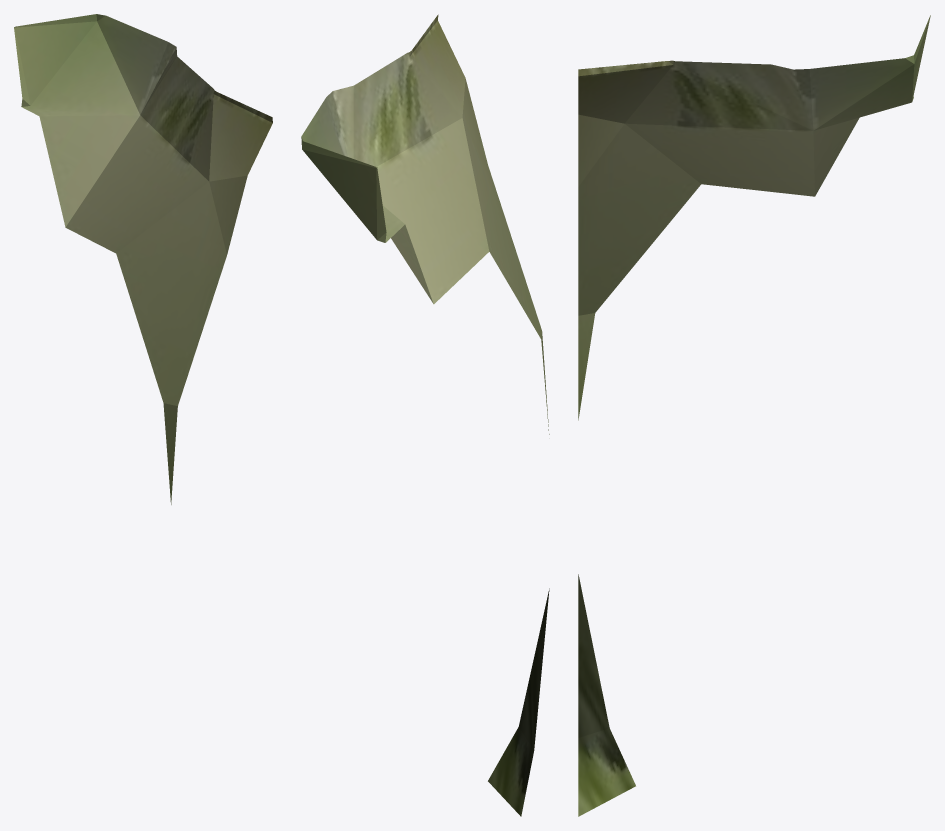
The picture shows the model from 3 angles, left to right: view 1: azimuth 30°, elevation 25°; view 2: azimuth 150°, elevation 25°; view 3: azimuth 270°, elevation 25°; orthographic projection. The views are drawn at different scales.
Size of the model in its own units: 0.4565 by 2.95 by 1.22.
Materials: 1 (1 with a texture image).
